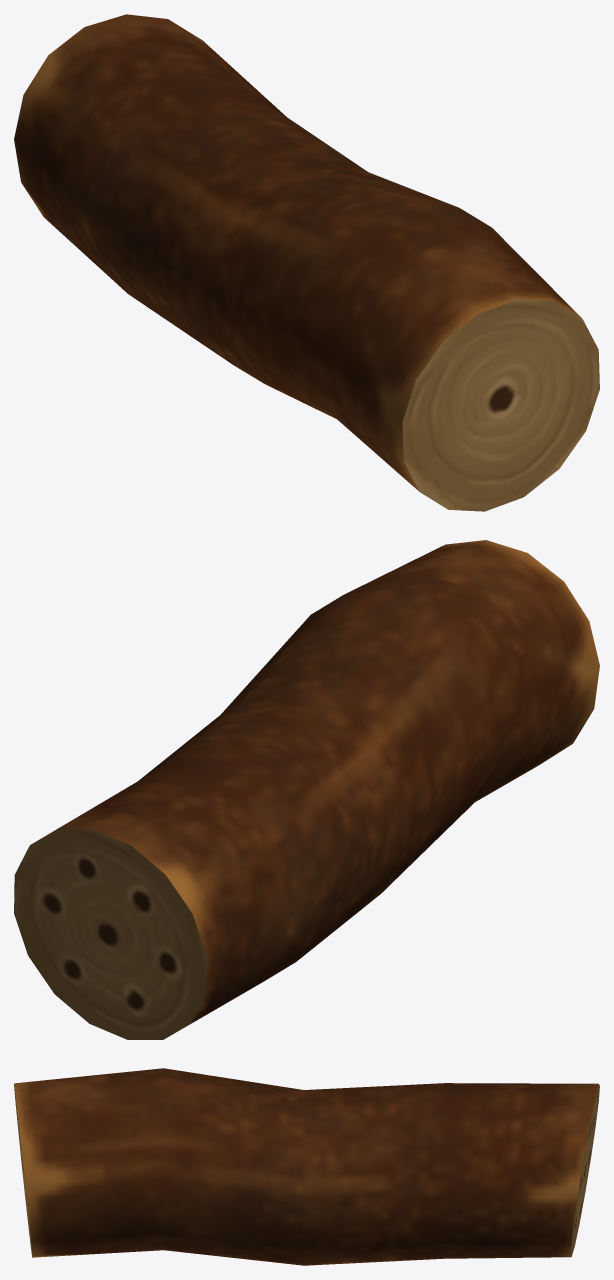
File: assets_bughotel_wood_small.fbx
3 renders of one model, top to bottom at view 1: azimuth 30°, elevation 25°; view 2: azimuth 150°, elevation 25°; view 3: azimuth 270°, elevation 25°, orthographic. The views are drawn at different scales.
Parts seen in each view (by area): view 1: assets_bughotel_wood_small; view 2: assets_bughotel_wood_small; view 3: assets_bughotel_wood_small.
Part boxes in pixels (left/top/right/bottom): assets_bughotel_wood_small: left=14, top=14, right=599, bottom=511; assets_bughotel_wood_small: left=14, top=540, right=599, bottom=1039; assets_bughotel_wood_small: left=14, top=1068, right=599, bottom=1265.
Bounding box in the file's own units: 0.8515 × 0.8984 × 2.62.
